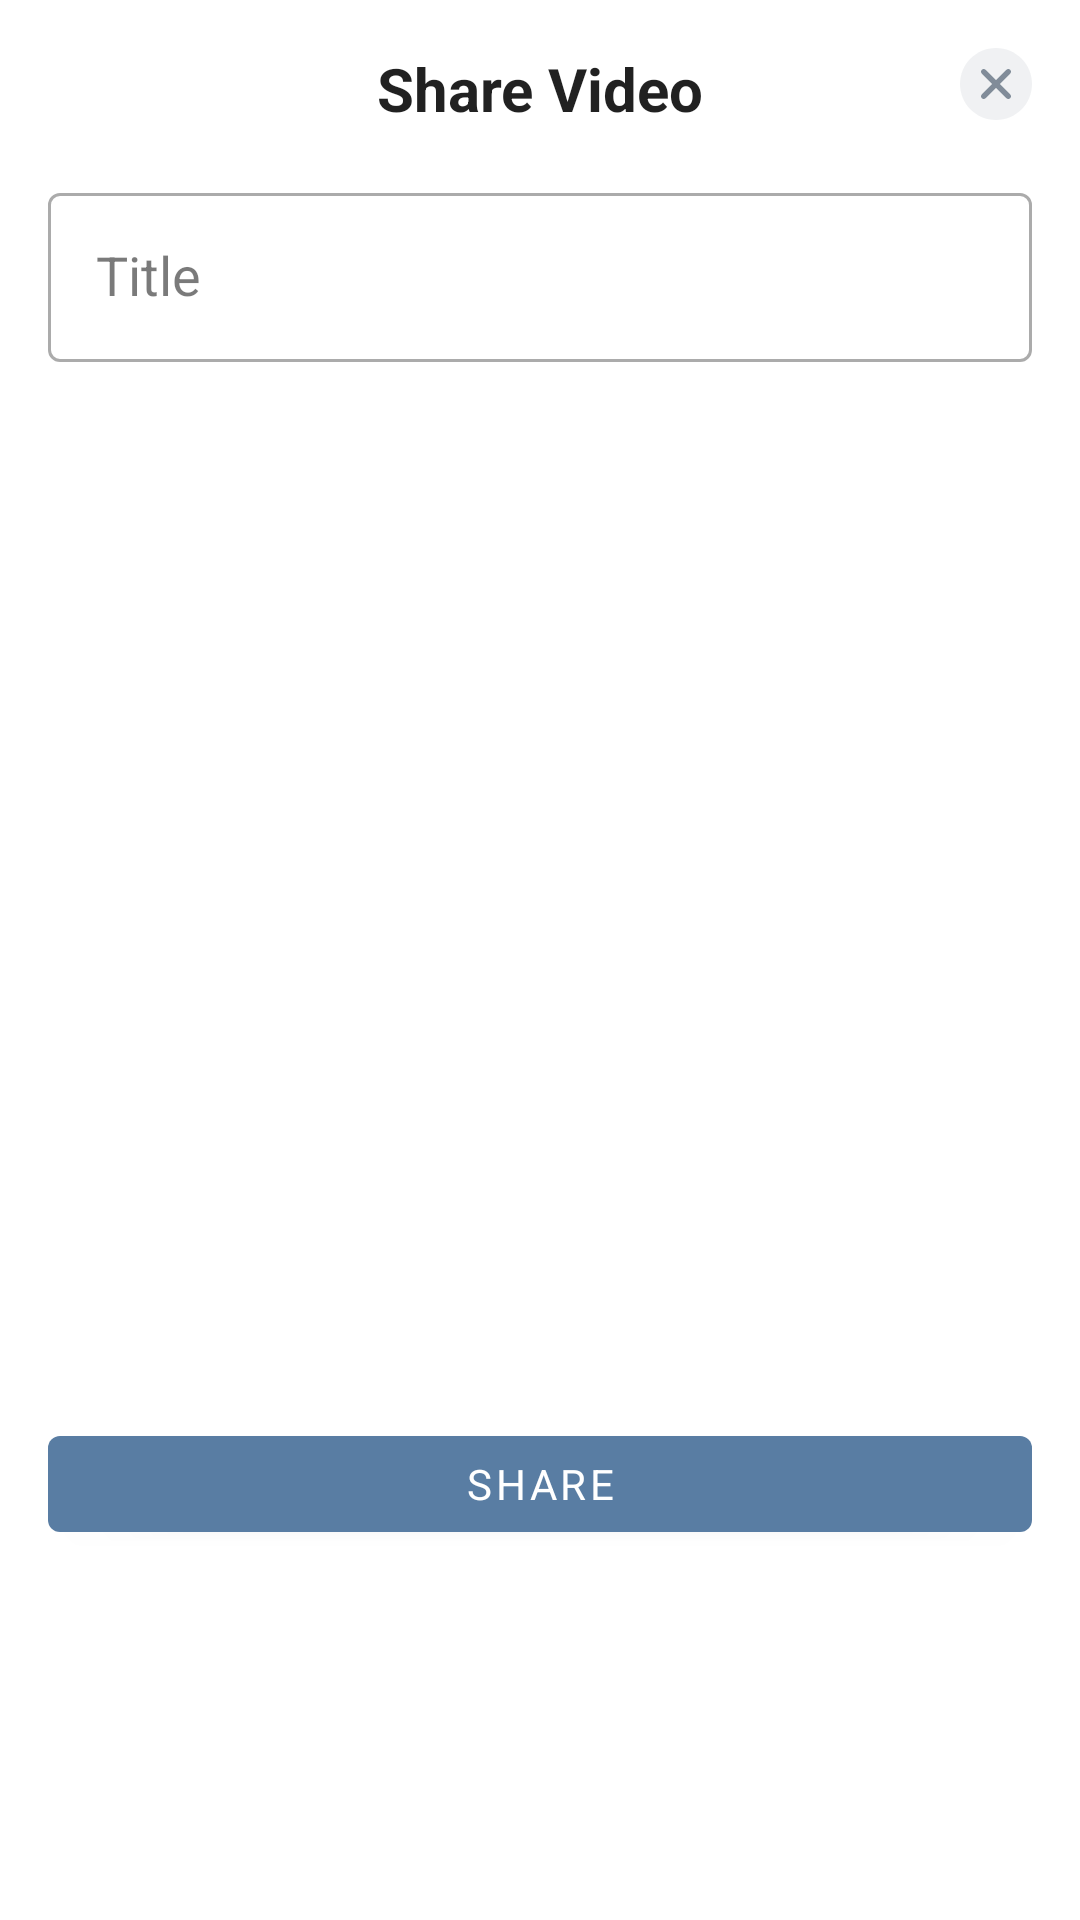

Screen size 1080px x 1920px. Icon name, then its center in pixels as (x=x, y=y):
dismiss: (x=996, y=84)
